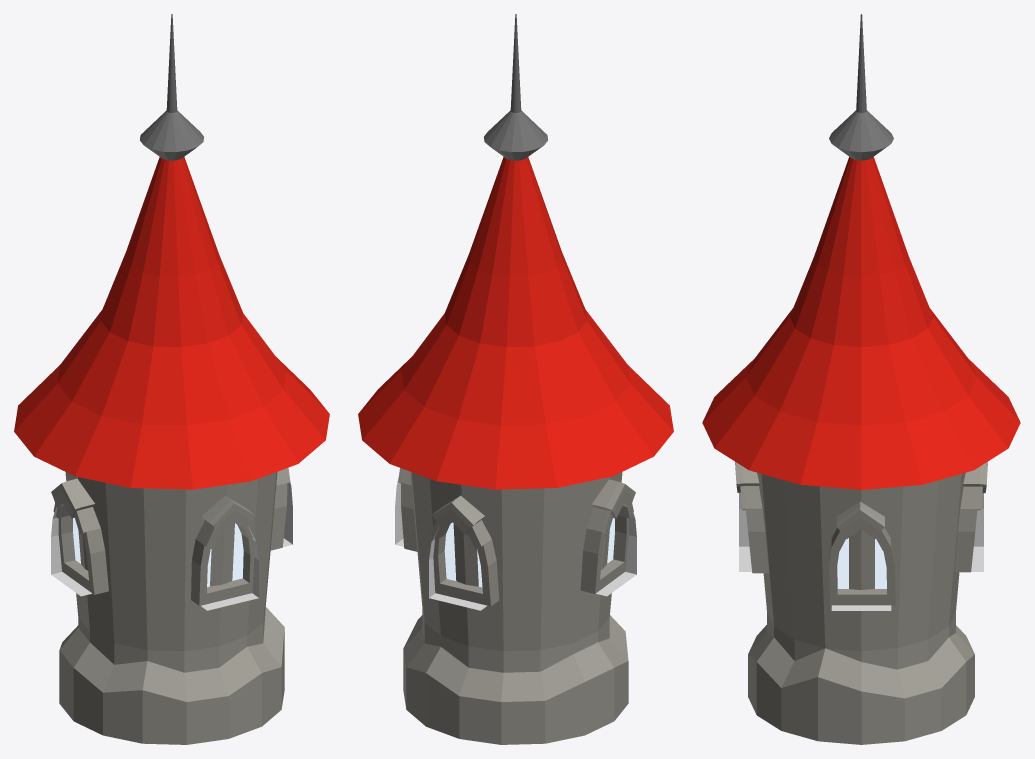
Rendered from tower_low_poly.glb.
The picture shows the model from 3 angles, left to right: view 1: azimuth 30°, elevation 25°; view 2: azimuth 150°, elevation 25°; view 3: azimuth 270°, elevation 25°; orthographic projection.
Visible parts, largest first — view 1: Circle, Plane.004, Plane.007, Plane.009, Plane.008, Plane.011, Plane.012; view 2: Circle, Plane.002, Plane.004, Plane.009, Plane.008, Plane.005, Plane.003; view 3: Circle, Plane.009, Plane.002, Plane.007, Plane.010, Plane.011, Plane.005.
Boxes of the visible parts, box(x1,y1,x2,y2) form: Circle: box(14, 14, 329, 744); Plane.004: box(51, 478, 108, 594); Plane.007: box(191, 496, 256, 605); Plane.009: box(270, 467, 290, 550); Plane.008: box(51, 507, 91, 596); Plane.011: box(201, 526, 258, 610); Plane.012: box(207, 523, 243, 586); Circle: box(358, 14, 673, 744); Plane.002: box(430, 495, 499, 606); Plane.004: box(580, 479, 635, 593); Plane.009: box(398, 468, 417, 551); Plane.008: box(596, 506, 636, 596); Plane.005: box(429, 527, 487, 610); Plane.003: box(444, 522, 482, 587); Circle: box(702, 14, 1020, 744); Plane.009: box(829, 501, 895, 605); Plane.002: box(954, 462, 987, 572); Plane.007: box(735, 462, 768, 573); Plane.010: box(837, 538, 886, 588); Plane.011: box(739, 492, 751, 571); Plane.005: box(971, 493, 983, 571).
Bounding box in the file's own units: 21.56 × 51.01 × 21.56.
